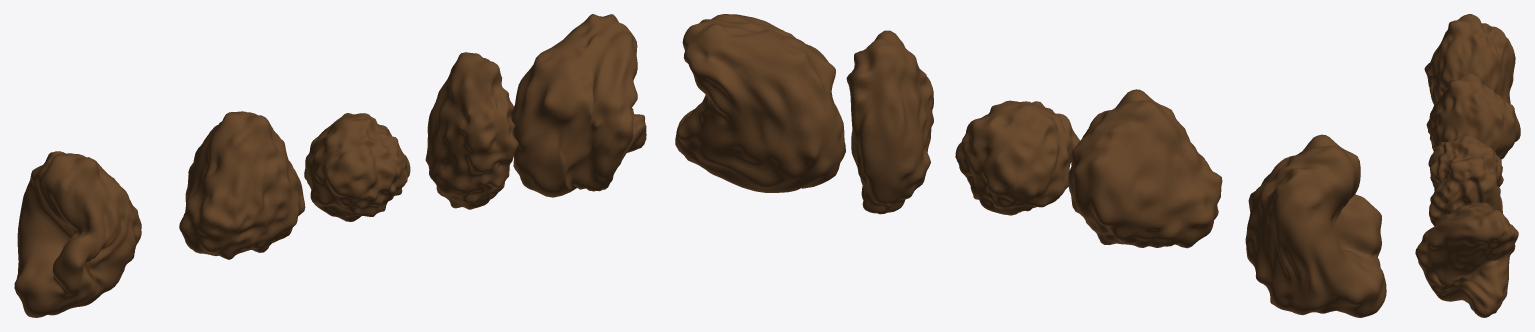
File: Asteroid Models.fbx
The picture shows the model from 3 angles, left to right: view 1: azimuth 30°, elevation 25°; view 2: azimuth 150°, elevation 25°; view 3: azimuth 270°, elevation 25°; orthographic projection. The views are drawn at different scales.
Parts seen in each view (by area): view 1: Asteroid.004, Asteroid.002, Asteroid.001, Asteroid.003, Asteroid; view 2: Asteroid.004, Asteroid.002, Asteroid.001, Asteroid.003, Asteroid; view 3: Asteroid.004, Asteroid.002, Asteroid.001, Asteroid.003, Asteroid.
Boxes of the visible parts, x1=… form: Asteroid.004: x1=511, y1=14, x2=646, y2=197; Asteroid.002: x1=14, y1=151, x2=141, y2=317; Asteroid.001: x1=179, y1=111, x2=305, y2=259; Asteroid.003: x1=425, y1=52, x2=518, y2=209; Asteroid: x1=304, y1=113, x2=410, y2=221; Asteroid.004: x1=675, y1=14, x2=845, y2=192; Asteroid.002: x1=1245, y1=134, x2=1386, y2=317; Asteroid.001: x1=1068, y1=89, x2=1222, y2=248; Asteroid.003: x1=846, y1=30, x2=933, y2=214; Asteroid: x1=955, y1=100, x2=1079, y2=215; Asteroid.004: x1=1415, y1=202, x2=1518, y2=317; Asteroid.002: x1=1424, y1=14, x2=1515, y2=105; Asteroid.001: x1=1426, y1=73, x2=1520, y2=159; Asteroid.003: x1=1429, y1=157, x2=1502, y2=226; Asteroid: x1=1428, y1=135, x2=1503, y2=187.
Bounding box in the file's own units: 2060 × 485 × 414.
